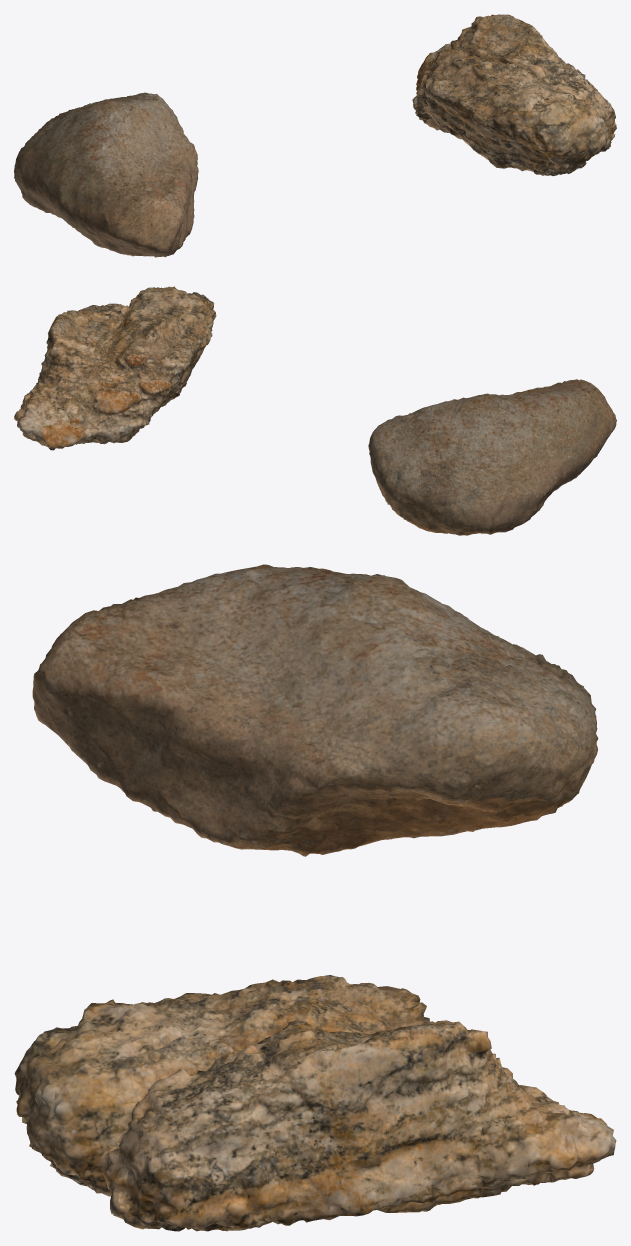
File: namaqualand_boulders_01.glb
The picture shows the model from 3 angles, top to bottom: view 1: azimuth 30°, elevation 25°; view 2: azimuth 150°, elevation 25°; view 3: azimuth 270°, elevation 25°; orthographic projection. The views are drawn at different scales.
Parts seen in each view (by area): view 1: namaqualand_rocks_01_a, namaqualand_rocks_01_b; view 2: namaqualand_rocks_01_a, namaqualand_rocks_01_b; view 3: namaqualand_rocks_01_a, namaqualand_rocks_01_b.
Boxes of the visible parts, x1,y1,x2,y2 form: namaqualand_rocks_01_a: (14, 92, 198, 257); namaqualand_rocks_01_b: (412, 14, 616, 176); namaqualand_rocks_01_a: (368, 379, 616, 535); namaqualand_rocks_01_b: (14, 286, 216, 450); namaqualand_rocks_01_a: (32, 564, 598, 856); namaqualand_rocks_01_b: (14, 975, 616, 1231).
Bounding box in the file's own units: 1.2 × 0.2516 × 0.5864.
1 material, 1 textured.
